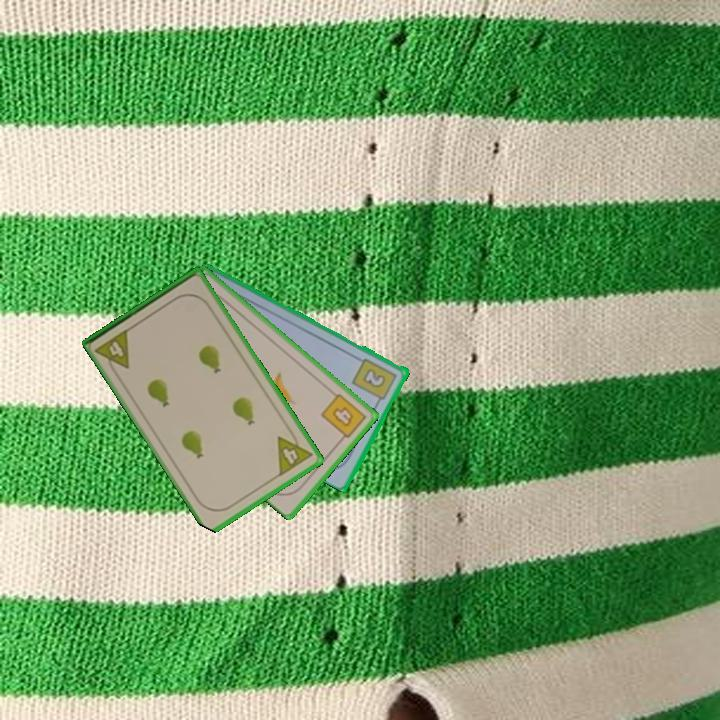2b: (349, 354, 400, 408)
4b: (317, 390, 369, 445)
4p: (274, 426, 315, 479), (92, 325, 133, 378)
